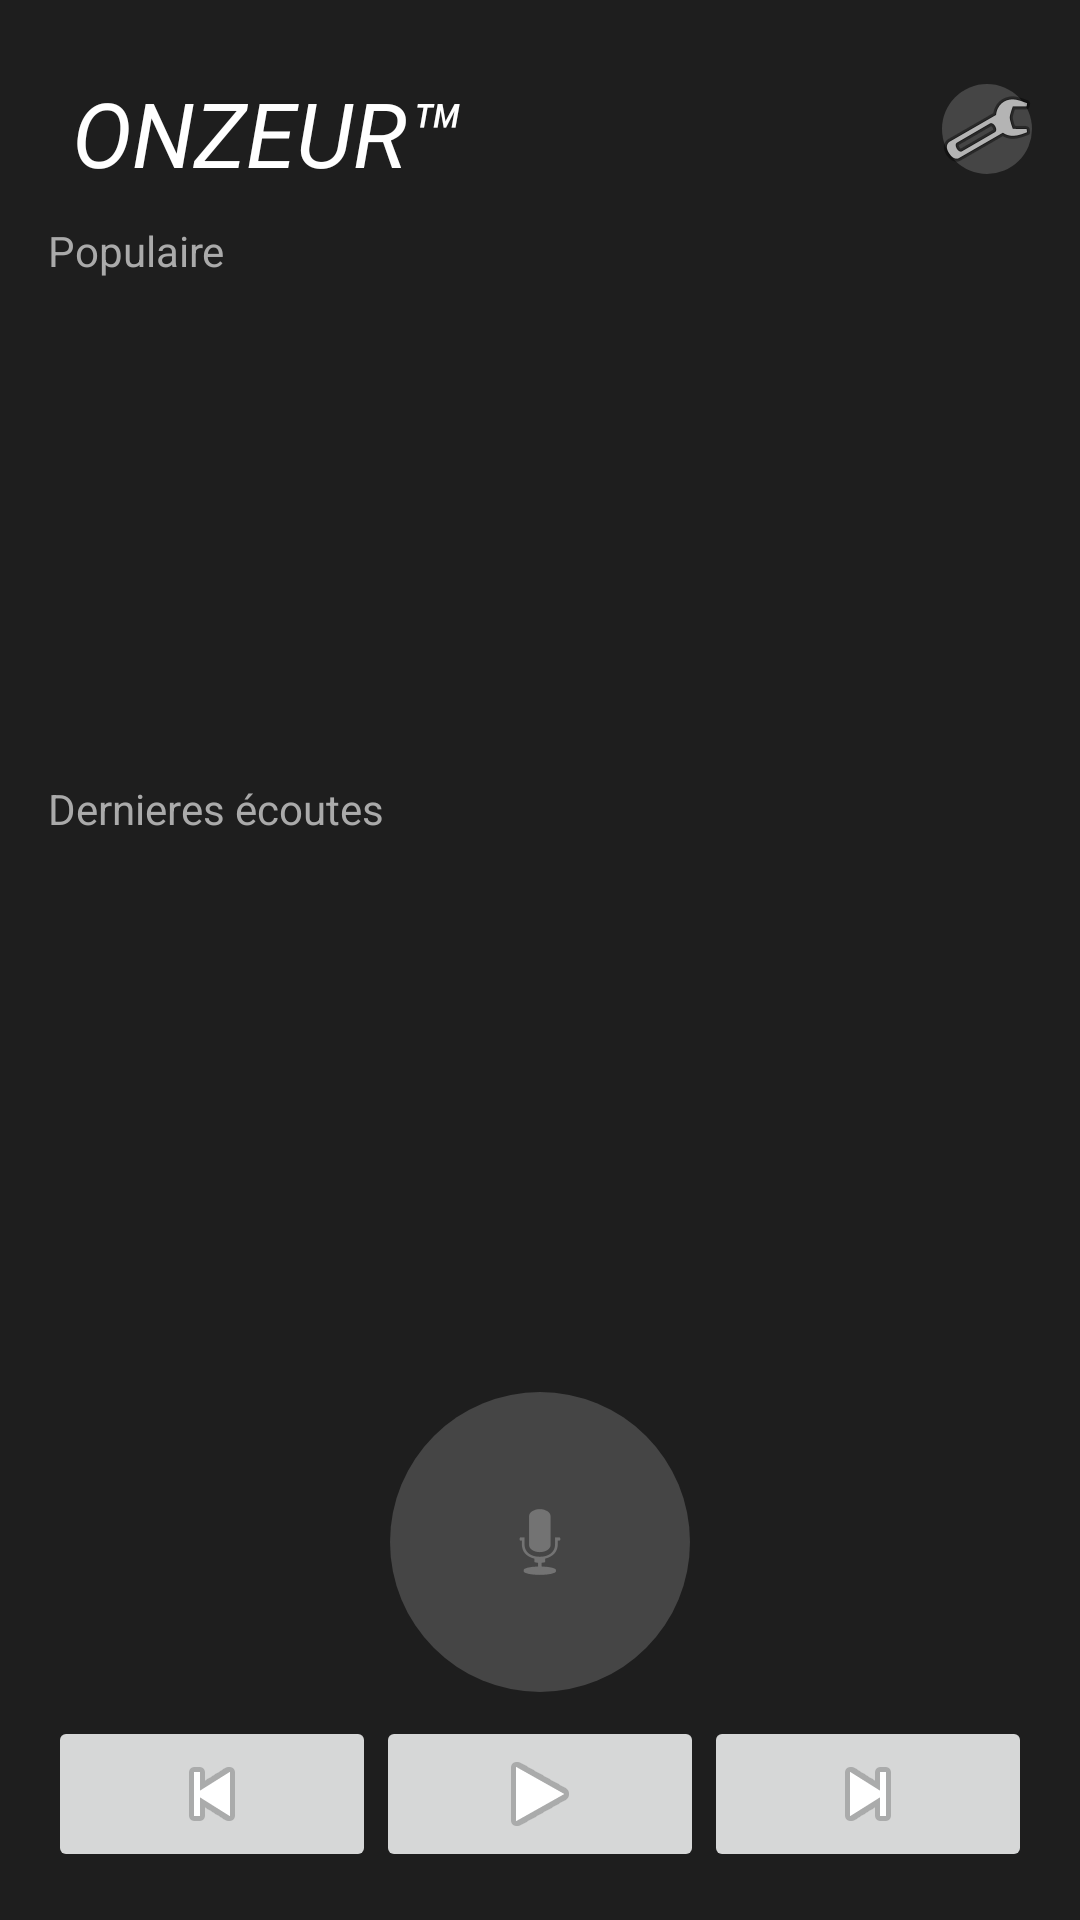

Named icons in this screenshot (1080×1920) and their centers, (x,y):
manage: (987,129)
next: (868,1794)
play: (540,1794)
previous: (212,1794)
speak now: (540,1542)
